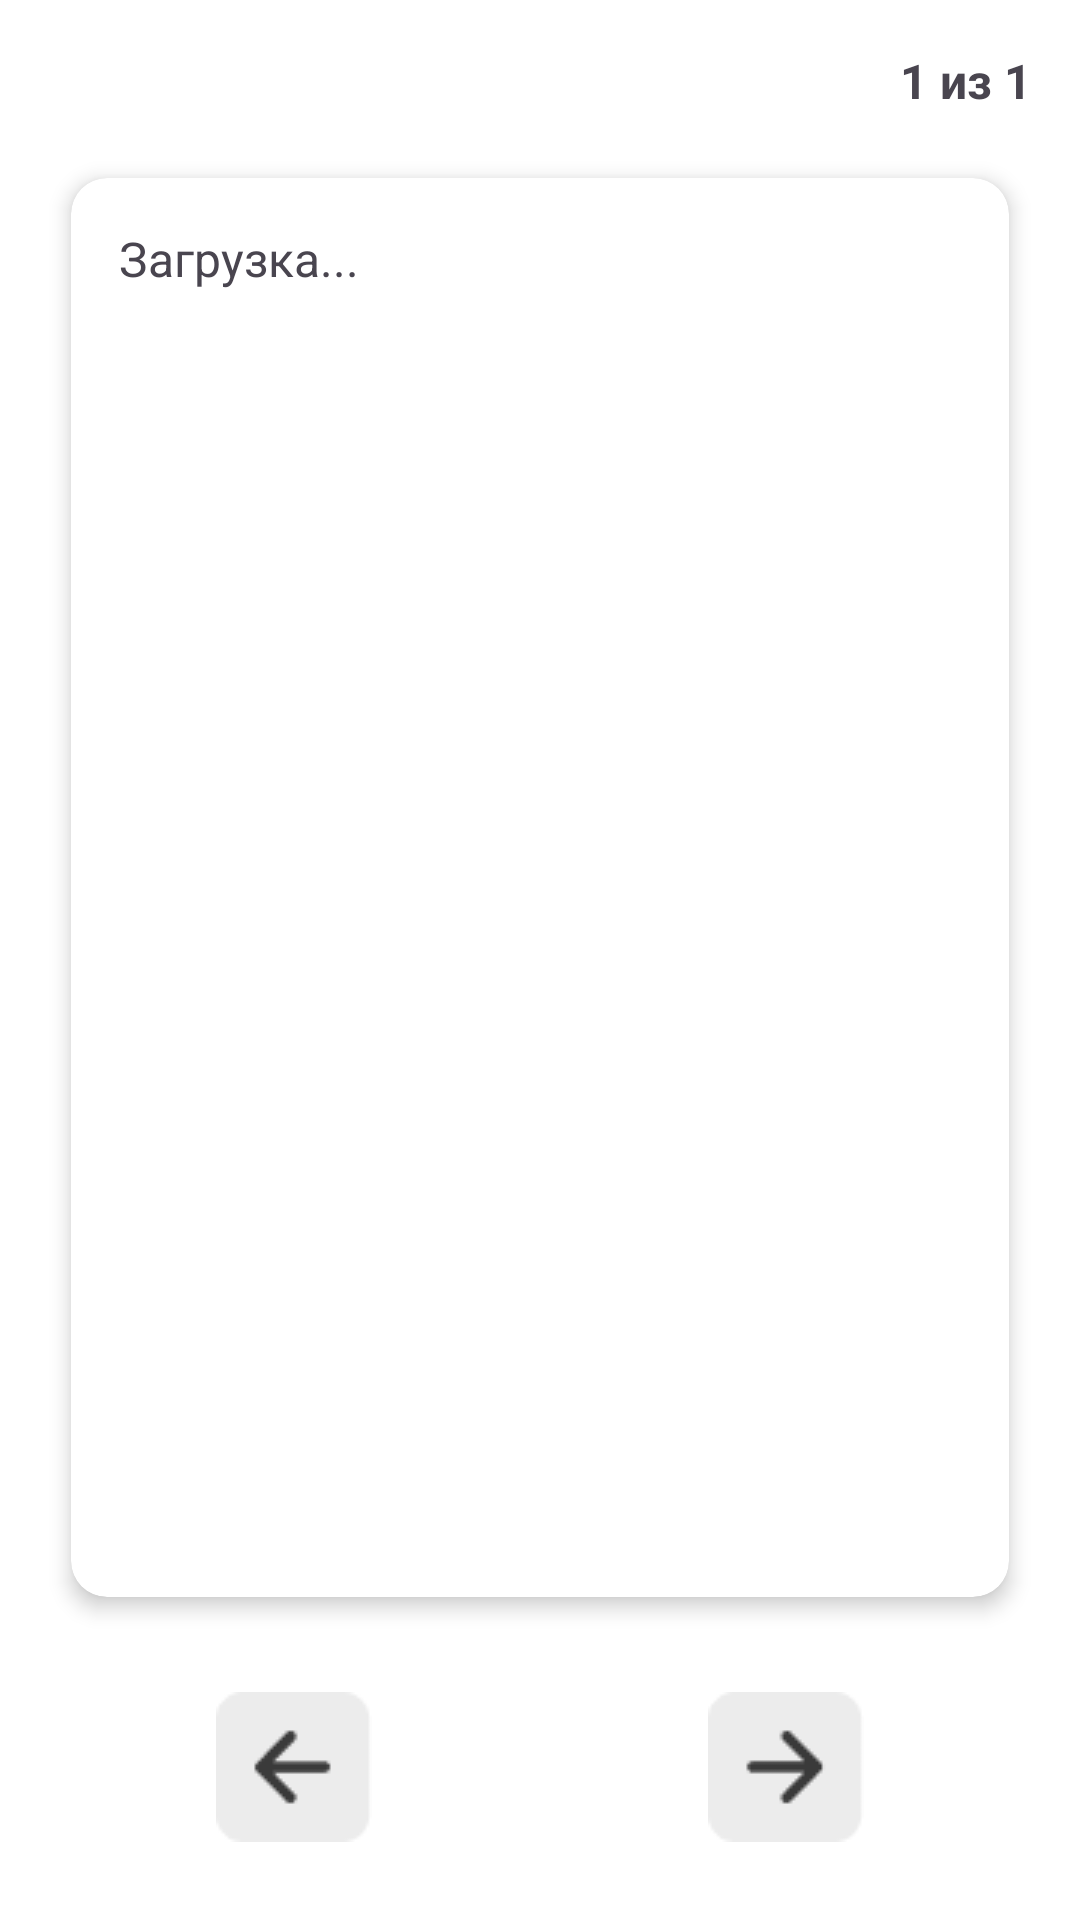

Locate icon controls on the screen. Image size 1080px×1920px, boxes as (x1, y1, x2, y2).
back page: (216, 1692, 370, 1842)
next page: (708, 1692, 862, 1842)
